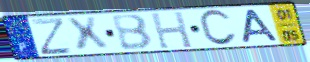A: (240, 8, 280, 44)
B: (109, 13, 155, 51)
C: (197, 8, 240, 48)
H: (148, 10, 195, 50)
X: (63, 15, 113, 54)
Z: (29, 16, 75, 56)
